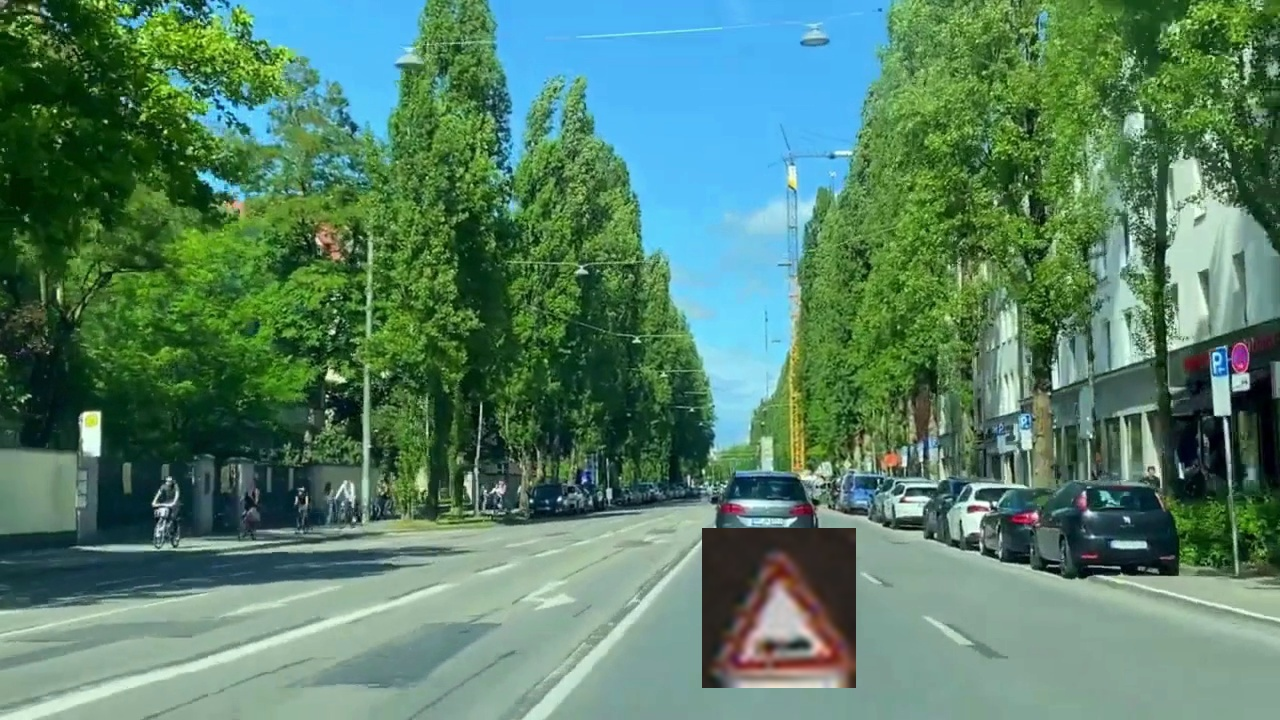Bumpy road: (702, 528, 856, 688)
